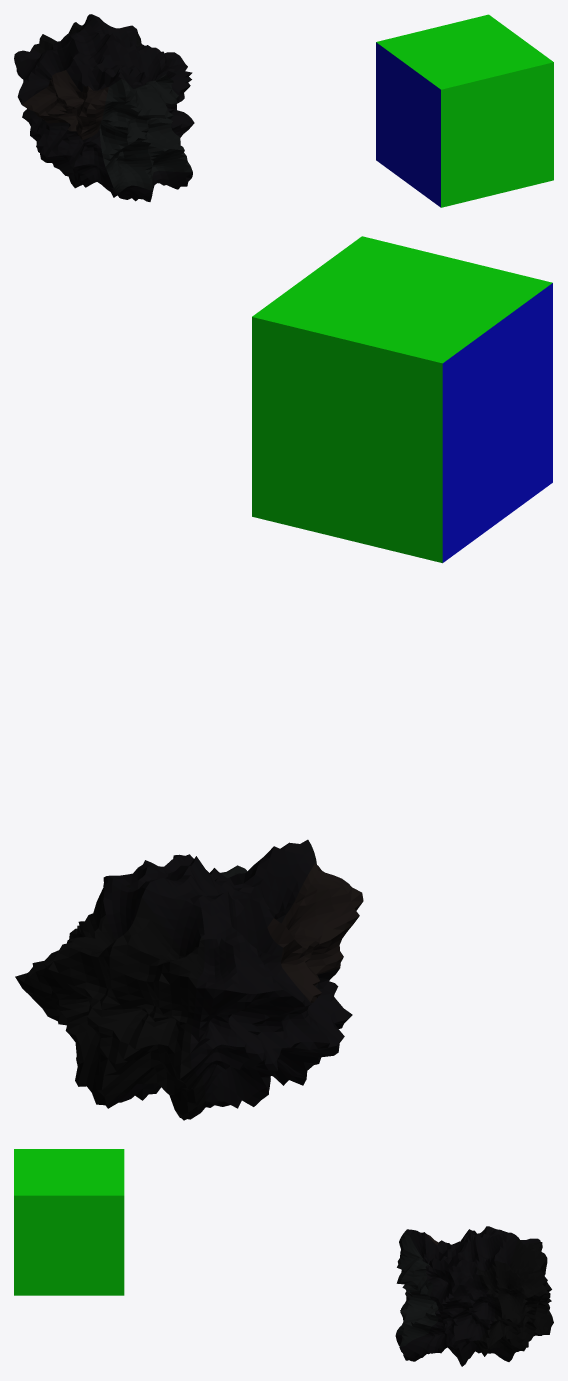
The model's file is silicon.obj.
The picture shows the model from 3 angles, top to bottom: view 1: azimuth 30°, elevation 25°; view 2: azimuth 150°, elevation 25°; view 3: azimuth 270°, elevation 25°; orthographic projection. The views are drawn at different scales.
Visible parts, largest first — view 1: Cube.001_Cube.006, Cube_Cube.005; view 2: Cube.001_Cube.006, Cube_Cube.005; view 3: Cube_Cube.005, Cube.001_Cube.006.
Part boxes in pixels (box(x1,y1,x2,y2)): Cube.001_Cube.006: box(376, 14, 553, 207); Cube_Cube.005: box(14, 14, 194, 201); Cube.001_Cube.006: box(252, 236, 552, 563); Cube_Cube.005: box(15, 839, 363, 1120); Cube_Cube.005: box(395, 1226, 553, 1366); Cube.001_Cube.006: box(14, 1149, 124, 1295).
Size of the model in its own units: 4.45 by 4.63 by 9.8.
